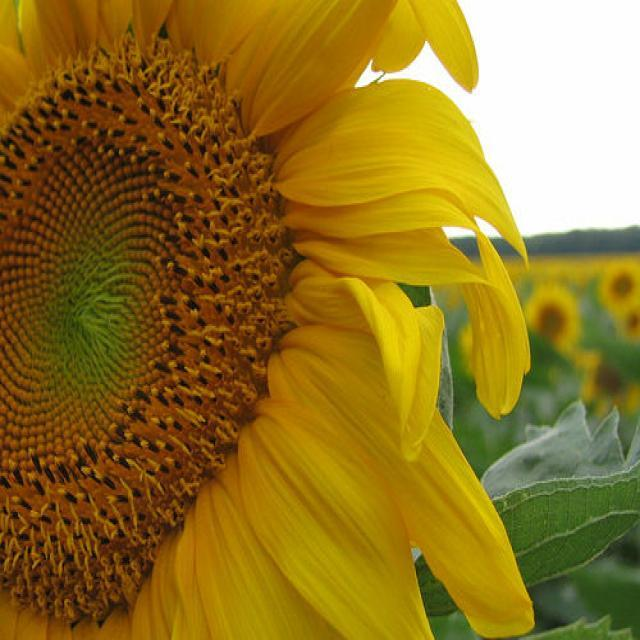sunflower: (1, 5, 531, 640), (576, 352, 640, 416), (526, 286, 575, 348), (601, 262, 640, 318), (615, 309, 640, 341)
